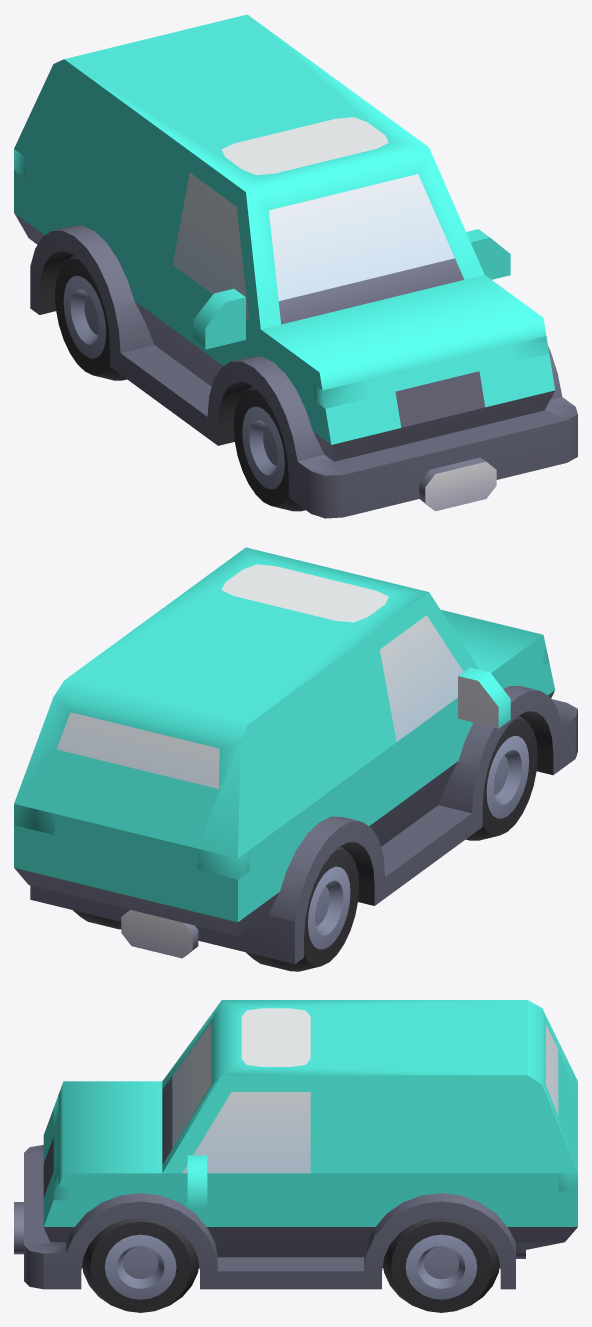
File: kenney-suv-teal.glb
The picture shows the model from 3 angles, top to bottom: view 1: azimuth 30°, elevation 25°; view 2: azimuth 150°, elevation 25°; view 3: azimuth 270°, elevation 25°; orthographic projection. The views are drawn at different scales.
Visible parts, largest first — view 1: body, wheel-front-right, wheel-back-right; view 2: body, wheel-back-right, wheel-front-right; view 3: body, wheel-back-left, wheel-front-left.
Boxes of the visible parts, bbox=[...] form: body: bbox=[14, 14, 577, 518]; wheel-front-right: bbox=[233, 386, 305, 511]; wheel-back-right: bbox=[55, 255, 126, 380]; body: bbox=[14, 547, 577, 964]; wheel-back-right: bbox=[246, 846, 359, 971]; wheel-front-right: bbox=[466, 715, 537, 840]; body: bbox=[14, 1000, 577, 1289]; wheel-back-left: bbox=[383, 1217, 499, 1312]; wheel-front-left: bbox=[82, 1217, 198, 1312].
Bounding box in the file's own units: 1.5 × 1.3 × 2.85.
Materials: 1 (1 with a texture image).
